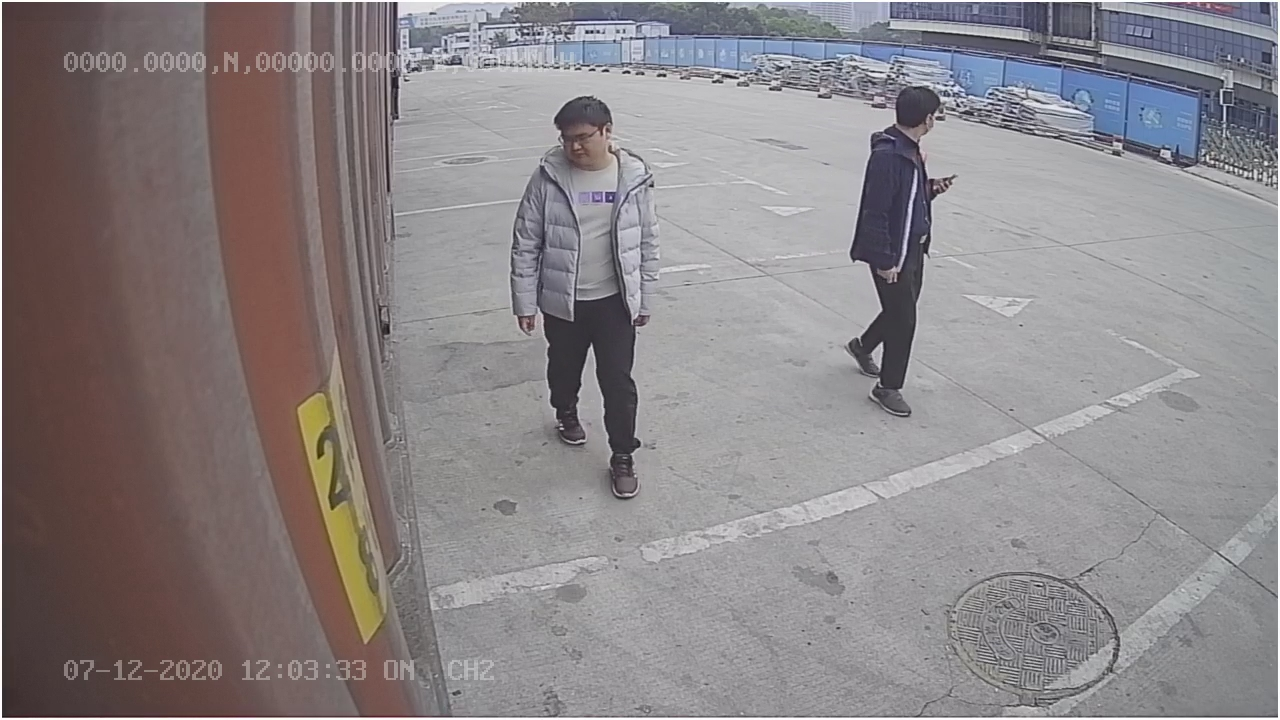person: (508, 95, 658, 501), (840, 84, 956, 418)
